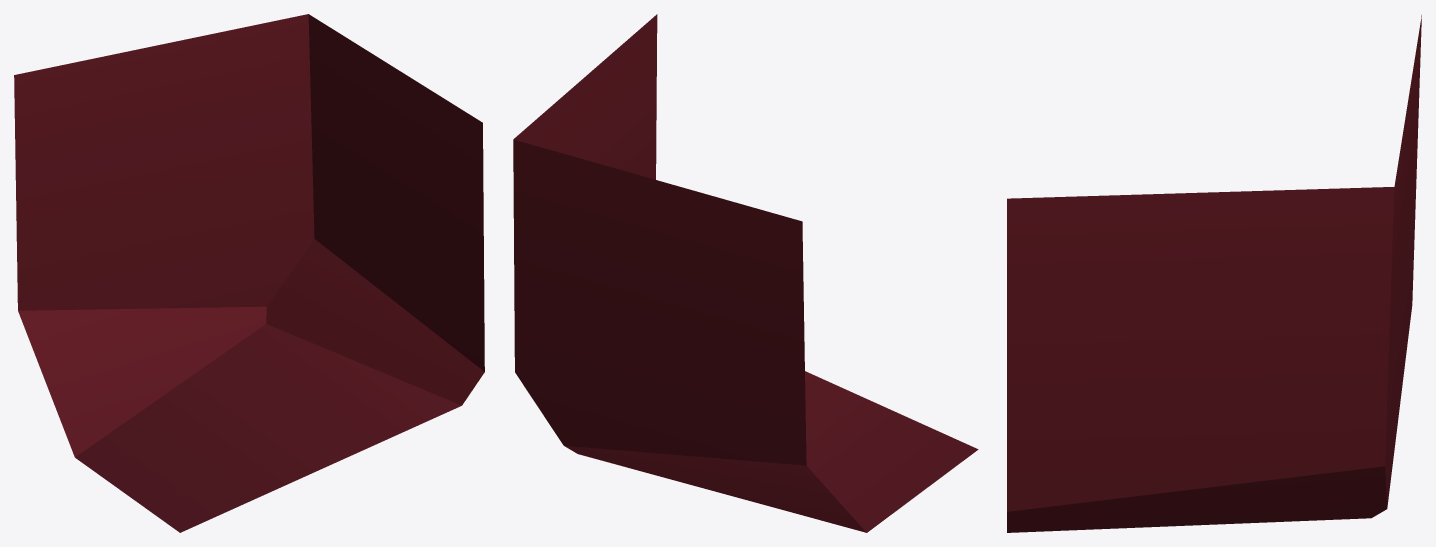
The model's file is fragment_8.obj.
The picture shows the model from 3 angles, left to right: view 1: azimuth 30°, elevation 25°; view 2: azimuth 150°, elevation 25°; view 3: azimuth 270°, elevation 25°; orthographic projection. The views are drawn at different scales.
Parts seen in each view (by area): view 1: BossFragment8; view 2: BossFragment8; view 3: BossFragment8.
Part boxes in pixels (box(x1,y1,x2,y2)): BossFragment8: box(14, 14, 484, 532); BossFragment8: box(513, 14, 978, 532); BossFragment8: box(1007, 15, 1421, 532).
Size of the model in its own units: 1.04 by 1.1 by 0.9823.
Materials: 1 (1 with a texture image).
